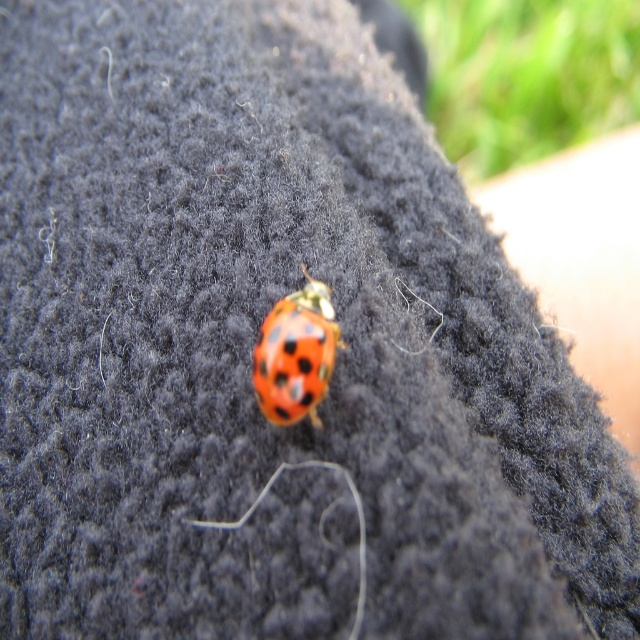Ladybug: (254, 267, 346, 430)
